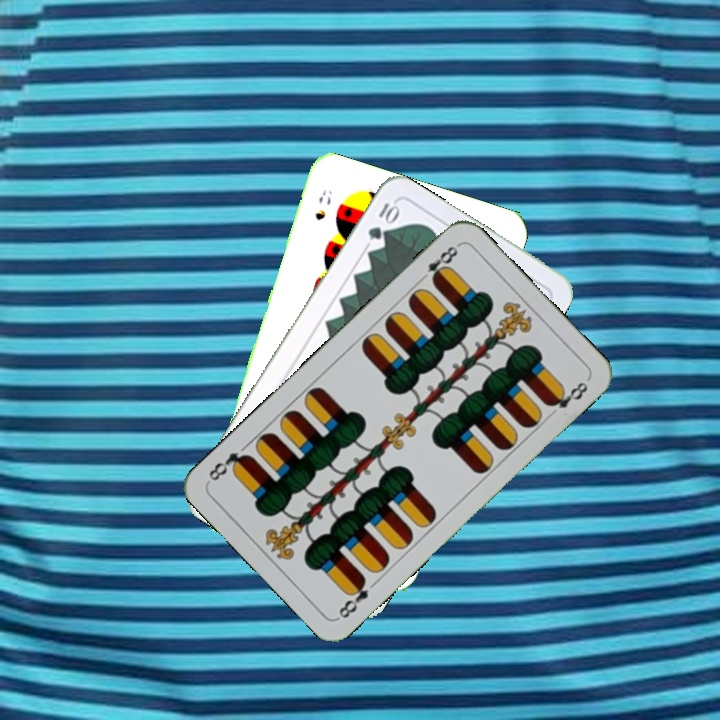E8: (414, 240, 462, 286), (334, 573, 372, 622)
G10: (363, 197, 402, 243)
S8: (311, 185, 335, 223)
